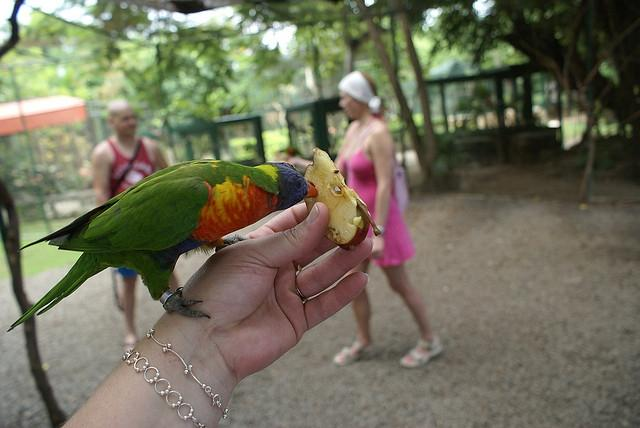apple: (303, 147, 381, 251)
